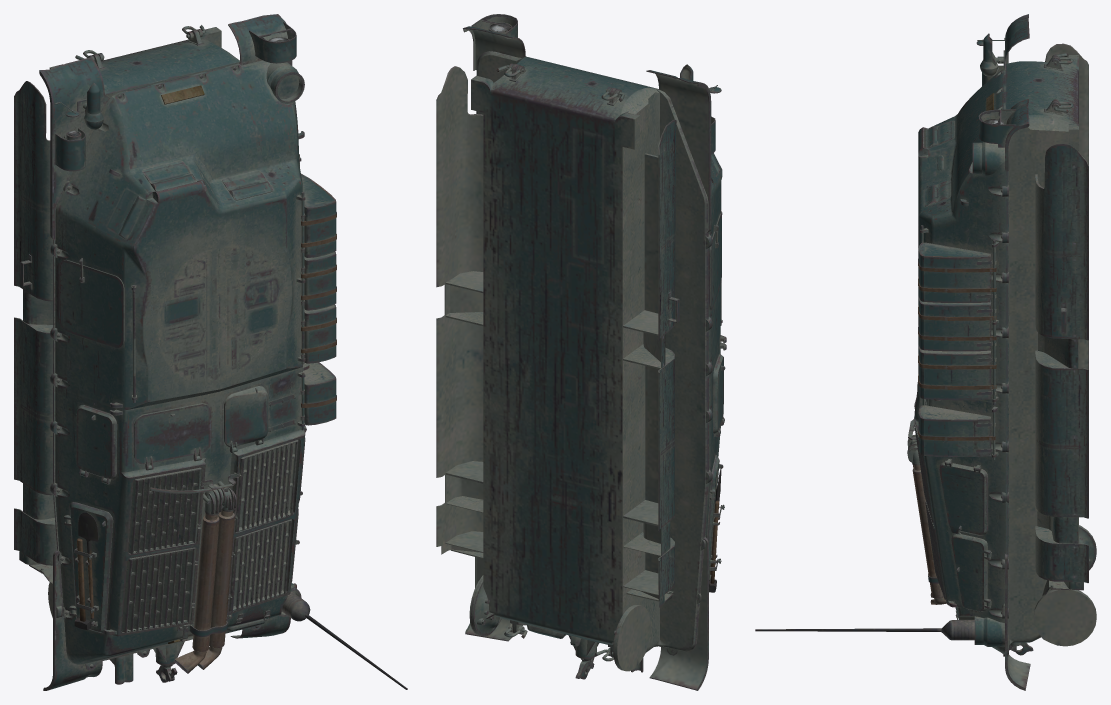
File: Hull.glb
3 renders of one model, left to right at view 1: azimuth 30°, elevation 25°; view 2: azimuth 150°, elevation 25°; view 3: azimuth 270°, elevation 25°, orthographic. The views are drawn at different scales.
Parts seen in each view (by area): view 1: set_0_group_0; view 2: set_0_group_0; view 3: set_0_group_0.
Boxes of the visible parts, x1,y1,x2,y2 form: set_0_group_0: (14, 14, 407, 690); set_0_group_0: (436, 14, 726, 690); set_0_group_0: (755, 14, 1096, 690).
Size of the model in its own units: 2.17 by 5.42 by 2.86.
1 material, 1 textured.
